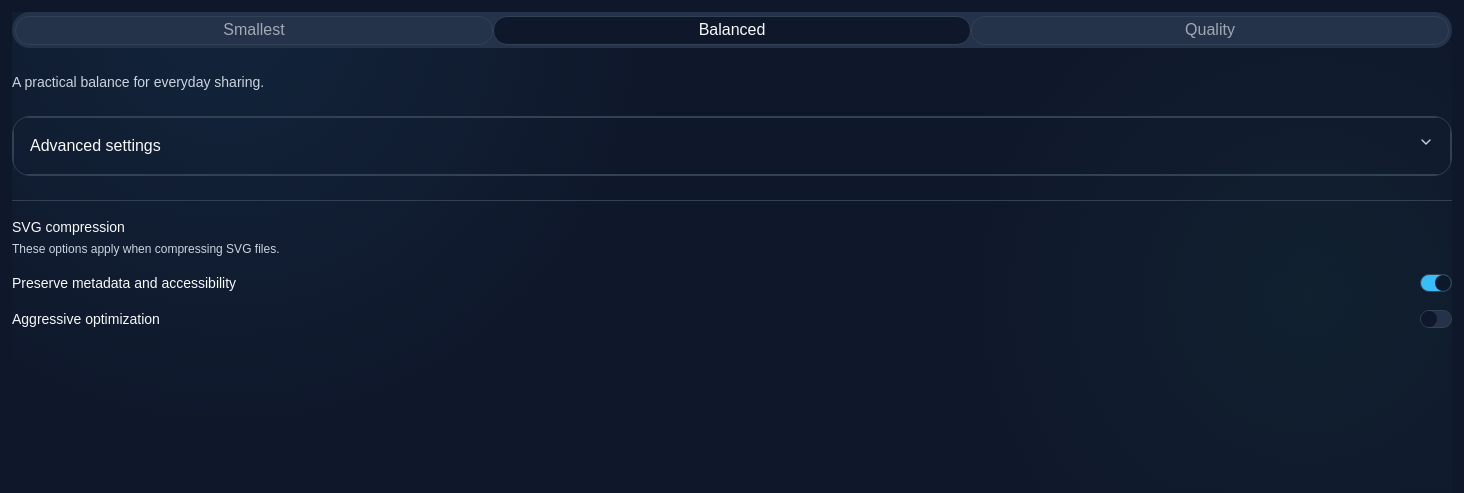
Scenario: CompressionControls › shows the selected quality and exposes a slider thumb
The width and height of the screenshot is (1464, 493).
Click the button "Advanced settings" at point(95, 146), box [13,117,1451,175]
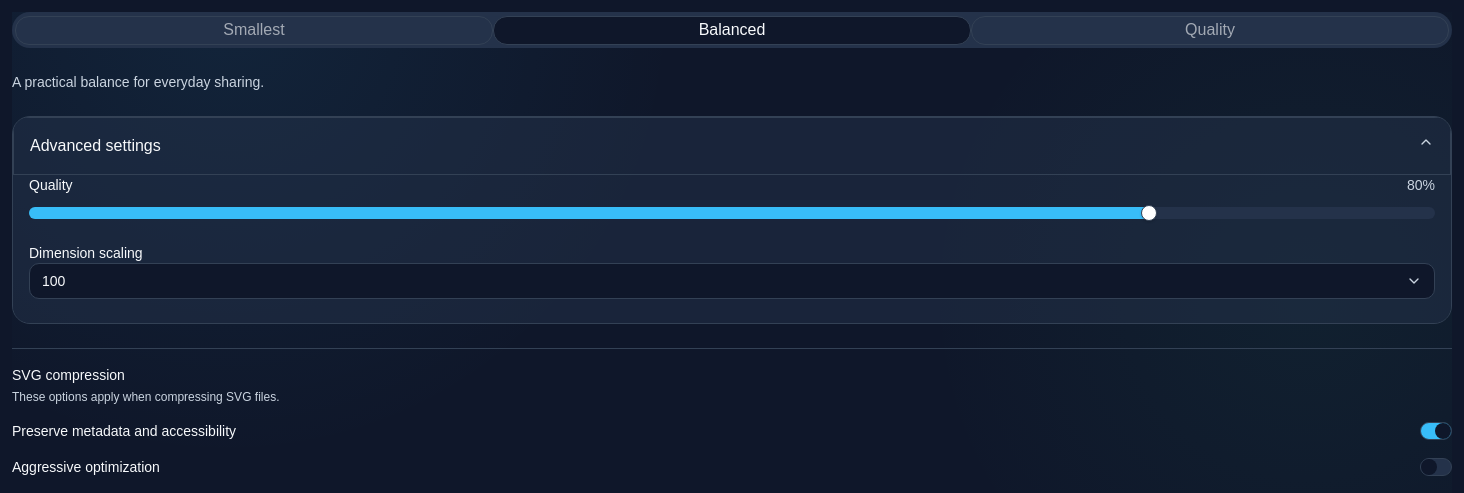
Expected: the text "80%" is shown, [1407,175,1435,195]
